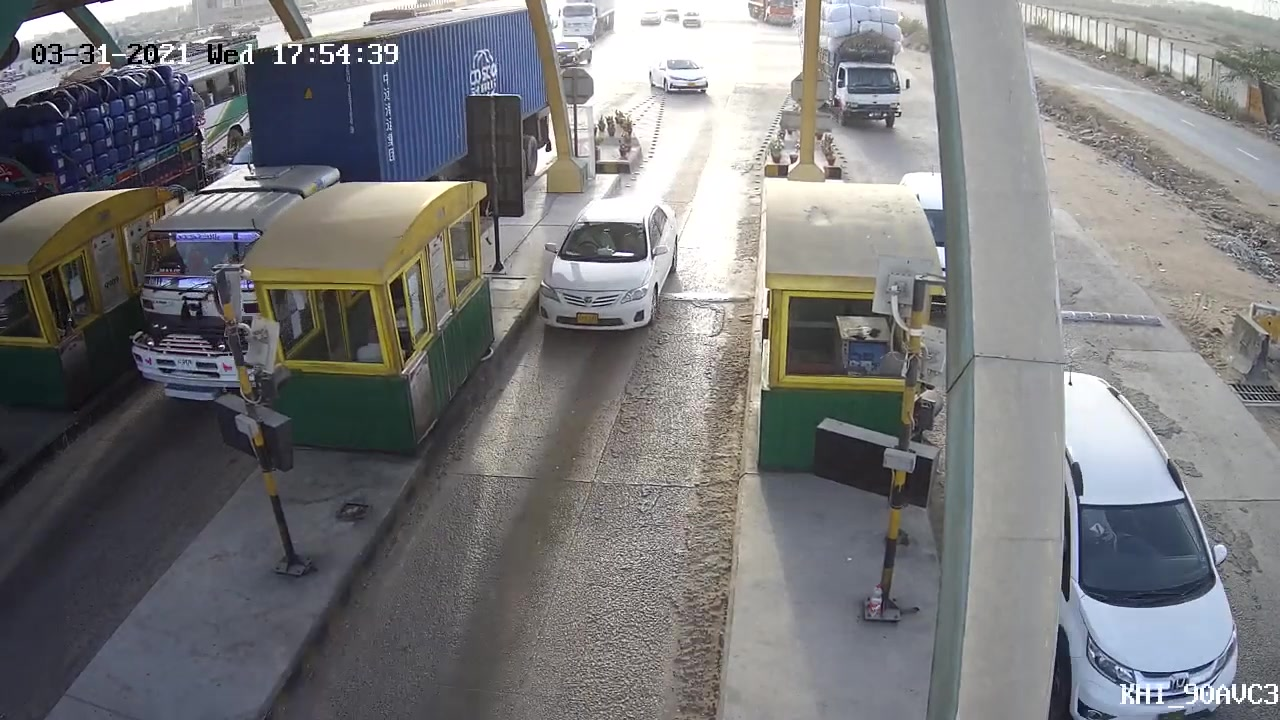F1: (530, 194, 696, 338)
